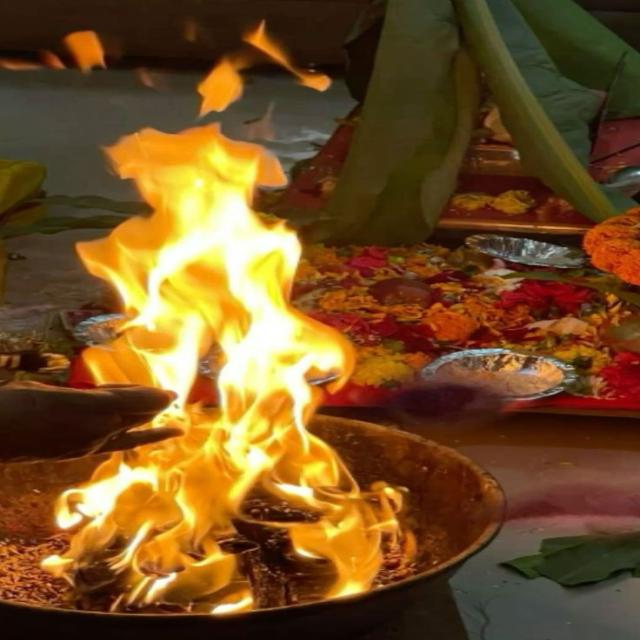fire: (45, 124, 409, 615)
